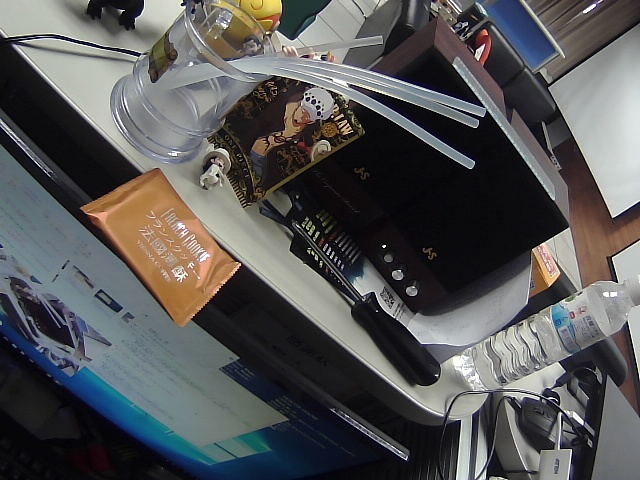frenchcookie: (74, 148, 264, 332)
